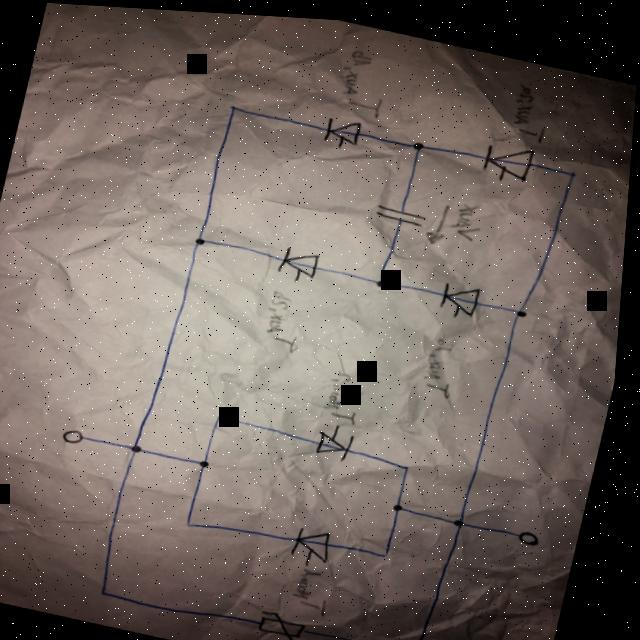capacitor: (376, 196, 434, 223)
junction: (414, 134, 429, 147), (519, 301, 535, 312), (137, 441, 151, 453), (379, 271, 392, 283), (460, 511, 474, 522), (399, 497, 413, 508), (197, 233, 211, 243), (191, 517, 205, 526), (206, 456, 218, 466), (230, 100, 242, 110), (221, 409, 232, 419), (571, 163, 582, 172), (389, 545, 400, 554), (108, 587, 118, 595), (410, 458, 420, 466), (422, 638, 432, 640)
terminal: (68, 426, 93, 445), (525, 522, 550, 540)
text: (331, 38, 399, 119), (263, 284, 317, 352), (420, 327, 471, 396), (506, 73, 559, 139), (325, 362, 375, 422), (299, 561, 347, 614), (451, 195, 491, 239)
thyristor: (484, 133, 539, 177), (298, 521, 344, 560), (443, 274, 487, 312), (281, 241, 327, 275), (320, 423, 362, 459), (324, 111, 365, 144)
